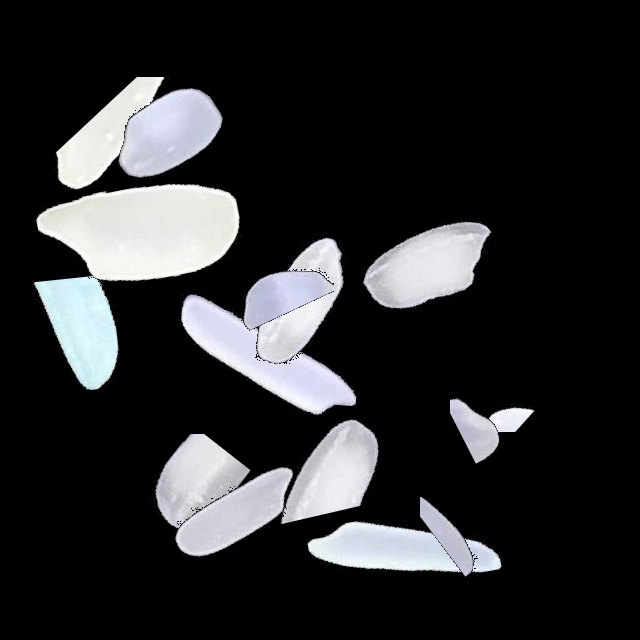Broken: (272, 426, 522, 593), (0, 231, 157, 481), (240, 313, 392, 563), (54, 434, 304, 577), (207, 125, 334, 375), (34, 77, 284, 191), (420, 372, 532, 622), (450, 277, 554, 527), (369, 344, 619, 432)
Full: (142, 229, 392, 479), (305, 139, 555, 389), (175, 176, 425, 426), (17, 109, 267, 359), (45, 10, 295, 260), (111, 386, 361, 636)
